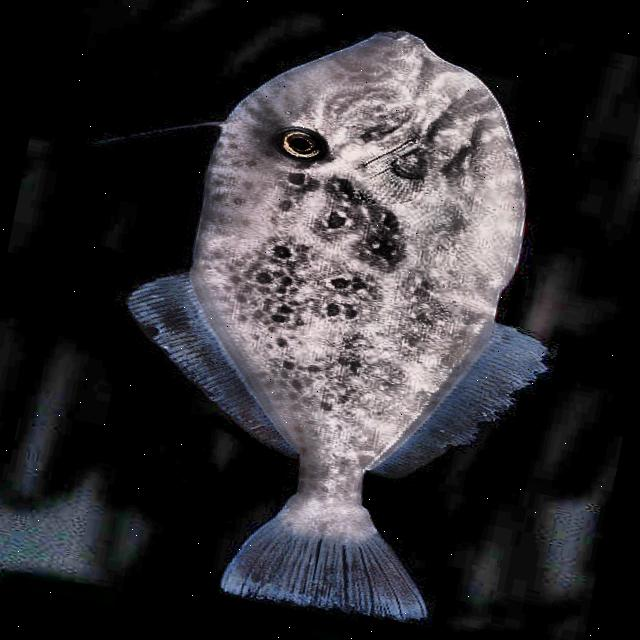fish: (24, 0, 607, 640)
